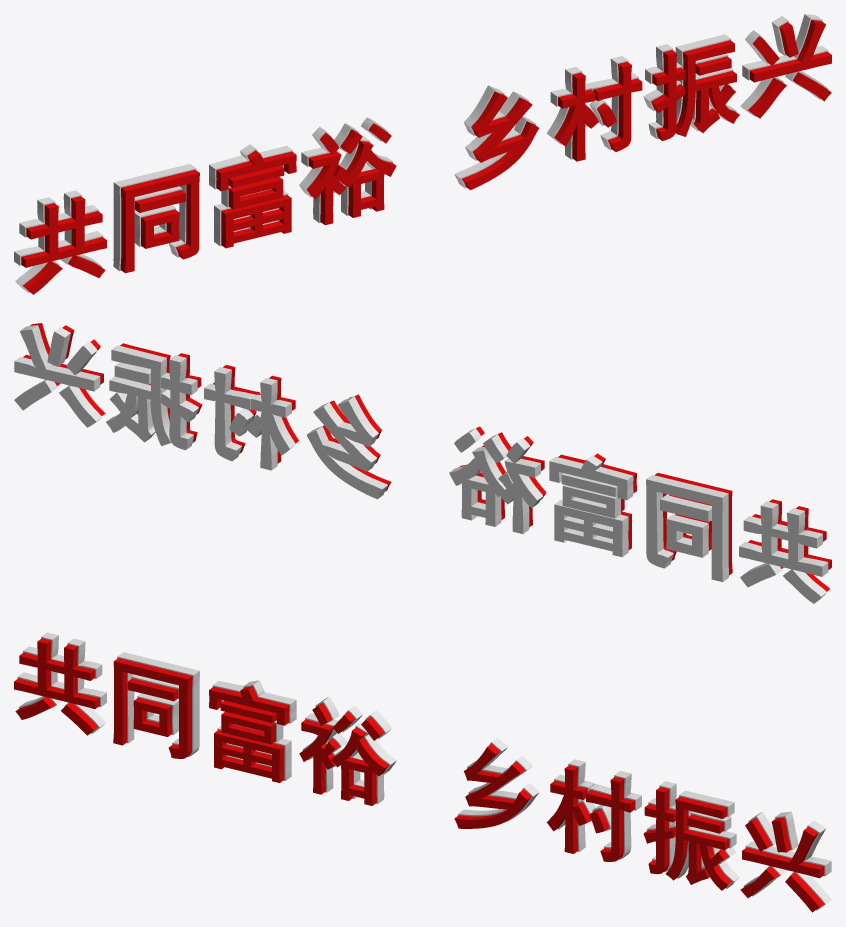
File: SM_Txt_1.fbx
The picture shows the model from 3 angles, top to bottom: view 1: azimuth 30°, elevation 25°; view 2: azimuth 150°, elevation 25°; view 3: azimuth 330°, elevation 25°; orthographic projection.
Visible parts, largest first — view 1: typeMesh1, typeMesh3; view 2: typeMesh3, typeMesh1; view 3: typeMesh1, typeMesh3.
Part boxes in pixels (left/top/right/bottom): typeMesh1: left=21, top=20, right=831, bottom=294; typeMesh3: left=14, top=14, right=828, bottom=292; typeMesh3: left=14, top=325, right=828, bottom=603; typeMesh1: left=23, top=323, right=831, bottom=591; typeMesh1: left=14, top=638, right=824, bottom=912; typeMesh3: left=17, top=632, right=831, bottom=910.
Size of the model in its own units: 203 by 21.98 by 4.69.
